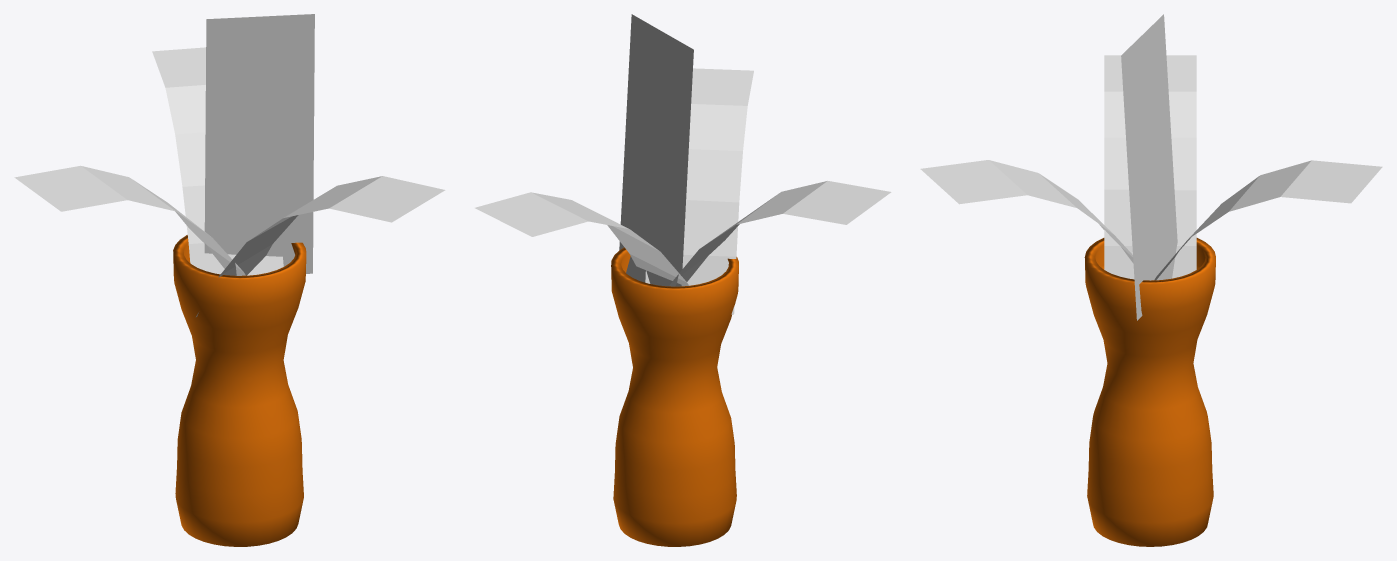
Rendered from vase.fbx.
3 views of the same model, side by side, from view 1: azimuth 30°, elevation 25°; view 2: azimuth 150°, elevation 25°; view 3: azimuth 270°, elevation 25° (orthographic). The views are drawn at different scales.
Visible parts, largest first — view 1: Walec, Prostokąt.003, Prostokąt.001, Prostokąt.002, Prostokąt; view 2: Walec, Prostokąt.003, Prostokąt.002, Prostokąt.001, Prostokąt; view 3: Walec, Prostokąt.003, Prostokąt, Prostokąt.001, Prostokąt.002.
Boxes of the visible parts, left/top/right/bottom form: Walec: left=173, top=235, right=306, bottom=546; Prostokąt.003: left=204, top=14, right=314, bottom=273; Prostokąt.001: left=152, top=47, right=283, bottom=275; Prostokąt.002: left=196, top=176, right=445, bottom=316; Prostokąt: left=14, top=165, right=245, bottom=275; Walec: left=611, top=247, right=738, bottom=546; Prostokąt.003: left=619, top=14, right=693, bottom=286; Prostokąt.002: left=645, top=68, right=753, bottom=314; Prostokąt.001: left=475, top=192, right=688, bottom=286; Prostokąt: left=669, top=181, right=891, bottom=286; Walec: left=1084, top=238, right=1215, bottom=546; Prostokąt.003: left=1121, top=14, right=1177, bottom=320; Prostokąt: left=1104, top=55, right=1196, bottom=279; Prostokąt.001: left=1154, top=160, right=1382, bottom=280; Prostokąt.002: left=920, top=160, right=1133, bottom=263.
Bounding box in the file's own units: 178 × 276 × 234.
